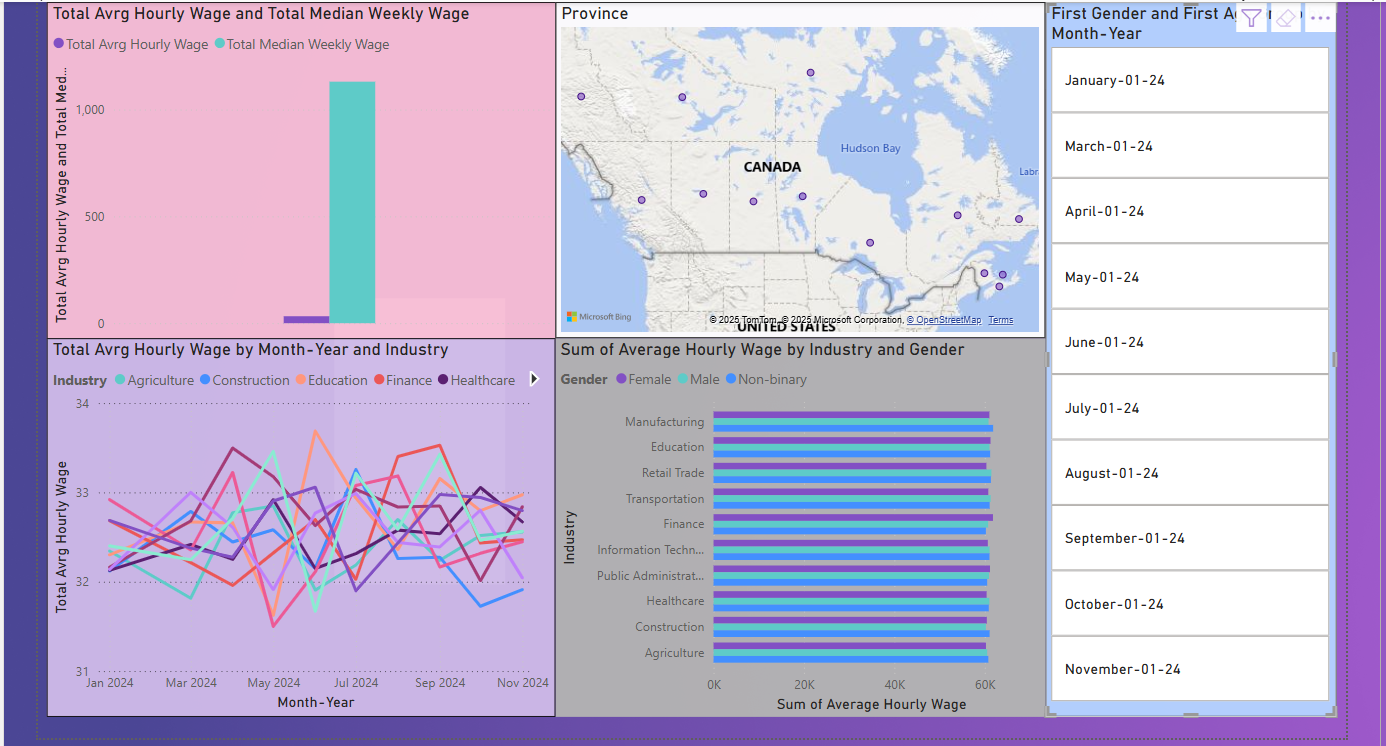

The dashboard page shown, as its layout file describes it:
{"tool":"powerbi","page":{"name":"Page 1","canvas":[1280,720],"ordinal":0},"visuals":[{"type":"textbox","box":[290,290,167,280],"z":3},{"type":"lineClusteredColumnComboChart","fields":{"Y":["wage_analysis_canada.Total Avrg Hourly Wage","wage_analysis_canada.Total Median Weekly Wage"]},"box":[8.2,0,498.1,329.3],"z":4},{"type":"clusteredBarChart","fields":{"Category":["wage_analysis_canada.Industry"],"Y":["Sum(wage_analysis_canada.Average Hourly Wage)"],"Series":["wage_analysis_canada.Gender"]},"box":[506.3,328.9,479.4,370.5],"z":5},{"type":"lineChart","fields":{"Category":["wage_analysis_canada.Month-Year"],"Series":["wage_analysis_canada.Industry"],"Y":["wage_analysis_canada.Total Avrg Hourly Wage"]},"box":[8.6,328.9,497.7,370.5],"z":6},{"type":"advancedSlicerVisual","fields":{"Values":["wage_analysis_canada.Month-Year"]},"box":[985.6,0,284.9,699.5],"z":8},{"type":"map","fields":{"Category":["wage_analysis_canada.Province"]},"box":[506.3,0,479.4,328.9],"z":10}]}

Visuals, with their boxes in screenshot pixels (x1, y1, x2, y2):
textbox: x1=333, y1=297, x2=504, y2=583
lineClusteredColumnComboChart - wage_analysis_canada.Total Avrg Hourly Wage x wage_analysis_canada.Total Median Weekly Wage: x1=44, y1=0, x2=554, y2=337
clusteredBarChart - wage_analysis_canada.Industry x Sum(wage_analysis_canada.Average Hourly Wage): x1=554, y1=337, x2=1045, y2=716
lineChart - wage_analysis_canada.Month-Year x wage_analysis_canada.Industry: x1=45, y1=337, x2=554, y2=716
advancedSlicerVisual - wage_analysis_canada.Month-Year: x1=1045, y1=0, x2=1336, y2=716
map - wage_analysis_canada.Province: x1=554, y1=0, x2=1045, y2=337
